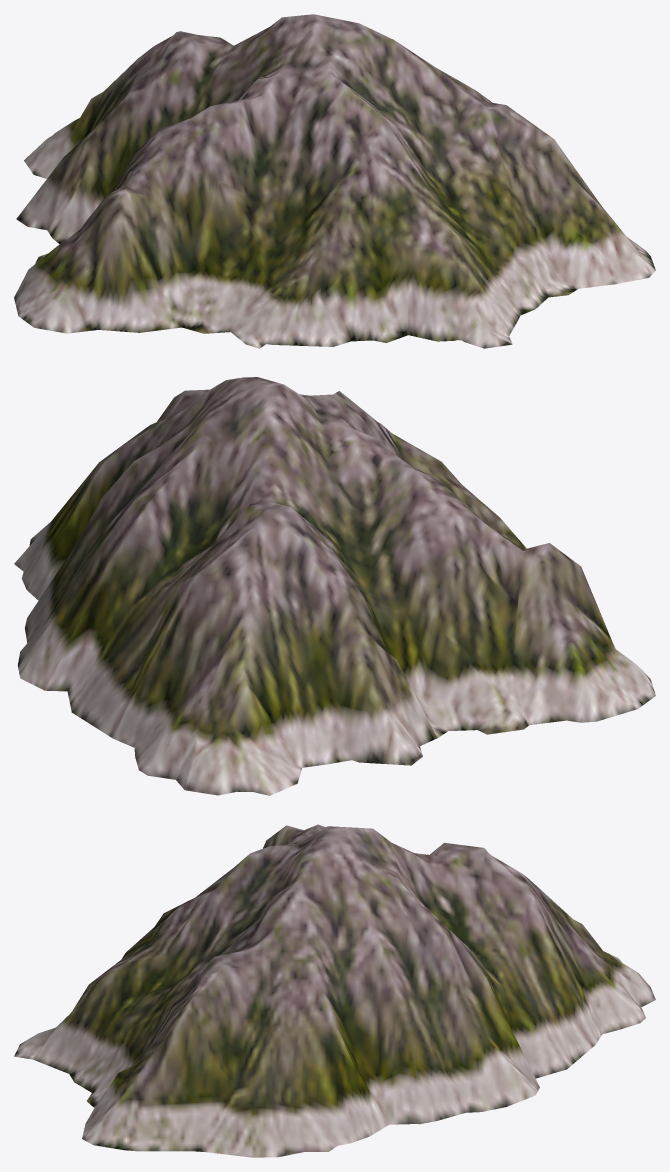
The model's file is Dhz_zsshan_03.FBX.
3 views of the same model, one above another, from view 1: azimuth 30°, elevation 25°; view 2: azimuth 150°, elevation 25°; view 3: azimuth 270°, elevation 25° (orthographic). The views are drawn at different scales.
Visible parts, largest first — view 1: Dhz_zsshan_03; view 2: Dhz_zsshan_03; view 3: Dhz_zsshan_03.
Part boxes in pixels (x1,y1,x2,y2): Dhz_zsshan_03: [14, 14, 655, 348]; Dhz_zsshan_03: [14, 377, 655, 795]; Dhz_zsshan_03: [14, 824, 655, 1157].
Size of the model in its own units: 3.24 by 1.22 by 3.31.
Materials: 1 (1 with a texture image).
